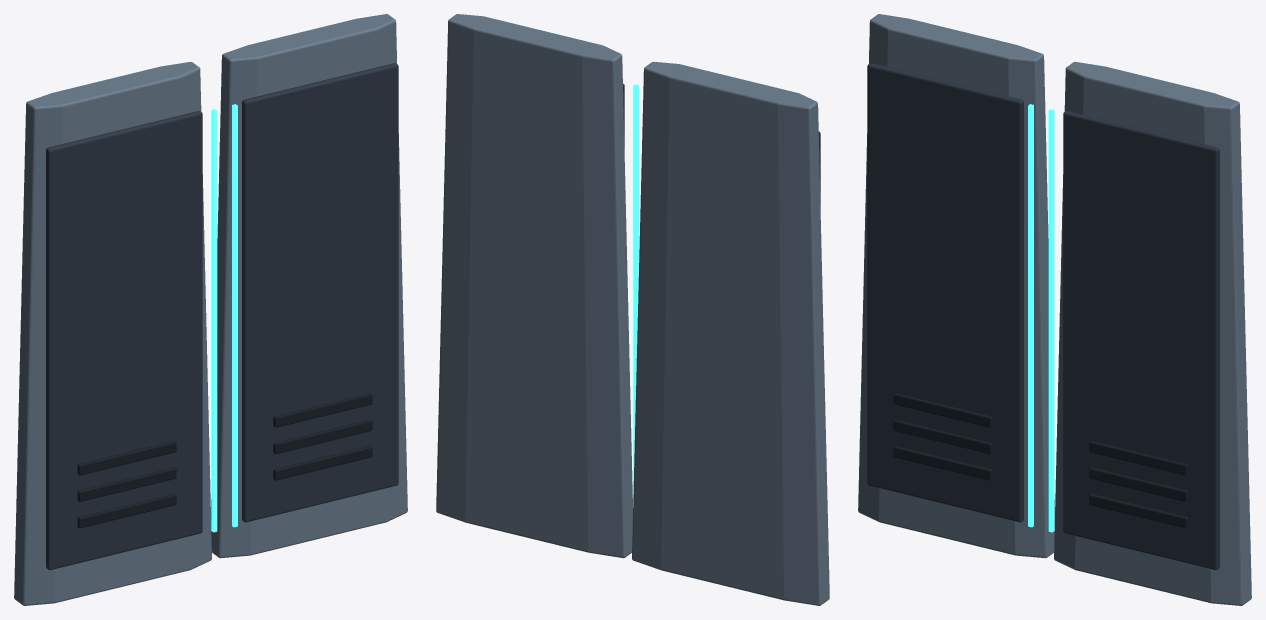
Rendered from SecurityDoor.fbx.
The picture shows the model from 3 angles, left to right: view 1: azimuth 30°, elevation 25°; view 2: azimuth 150°, elevation 25°; view 3: azimuth 330°, elevation 25°; orthographic projection.
Parts seen in each view (by area): view 1: DoorInset.001, DoorInset, DoorLeaf, DoorLeaf.001, DoorEdgeGlow, DoorEdgeGlow.001, DoorLowerVent.003, DoorLowerVent.004, DoorLowerVent, DoorLowerVent.001, DoorLowerVent.005, DoorLowerVent.002; view 2: DoorLeaf, DoorLeaf.001, DoorEdgeGlow.001; view 3: DoorInset, DoorInset.001, DoorLeaf.001, DoorLeaf, DoorEdgeGlow.001, DoorEdgeGlow, DoorLowerVent, DoorLowerVent.001, DoorLowerVent.003, DoorLowerVent.004, DoorLowerVent.002, DoorLowerVent.005.
Part boxes in pixels (x1,y1,x2,y2): DoorInset.001: (242,63,398,522); DoorInset: (46,111,202,570); DoorLeaf: (14,61,211,605); DoorLeaf.001: (211,14,407,558); DoorEdgeGlow: (211,109,217,532); DoorEdgeGlow.001: (232,104,237,527); DoorLowerVent.003: (273,446,372,480); DoorLowerVent.004: (273,419,372,454); DoorLowerVent: (77,493,176,528); DoorLowerVent.001: (77,467,176,501); DoorLowerVent.005: (273,393,372,427); DoorLowerVent.002: (77,441,176,475); DoorLeaf: (632,61,829,605); DoorLeaf.001: (436,14,632,558); DoorEdgeGlow.001: (633,84,639,494); DoorInset: (867,63,1023,522); DoorInset.001: (1063,111,1219,570); DoorLeaf.001: (1054,61,1251,605); DoorLeaf: (858,14,1054,558); DoorEdgeGlow.001: (1048,109,1054,532); DoorEdgeGlow: (1028,104,1033,527); DoorLowerVent: (893,446,992,480); DoorLowerVent.001: (893,419,992,454); DoorLowerVent.003: (1089,493,1188,528); DoorLowerVent.004: (1089,467,1188,501); DoorLowerVent.002: (893,393,992,427); DoorLowerVent.005: (1089,441,1188,475).
Size of the model in its own units: 2.44 by 3 by 0.2575.
